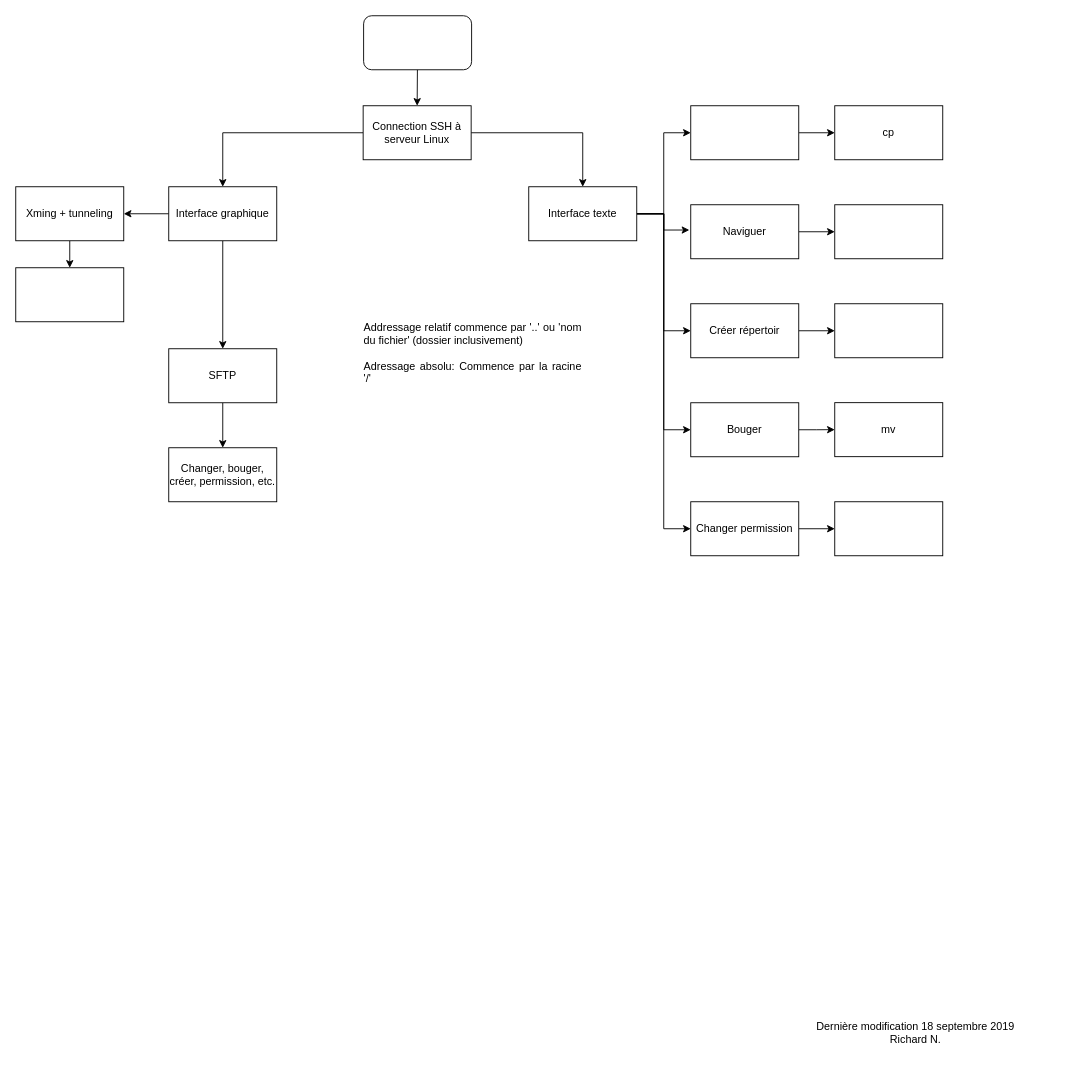
This 1085x1085 diagram has some shape labels left out. Each missing label, with the box of its shape:
cd: (834, 204, 943, 259)
chmod: (834, 501, 943, 556)
Copier: (690, 105, 799, 160)
konqueror & okular &: (15, 267, 124, 322)
mkdir: (834, 303, 943, 358)
Module B: (363, 15, 472, 70)
